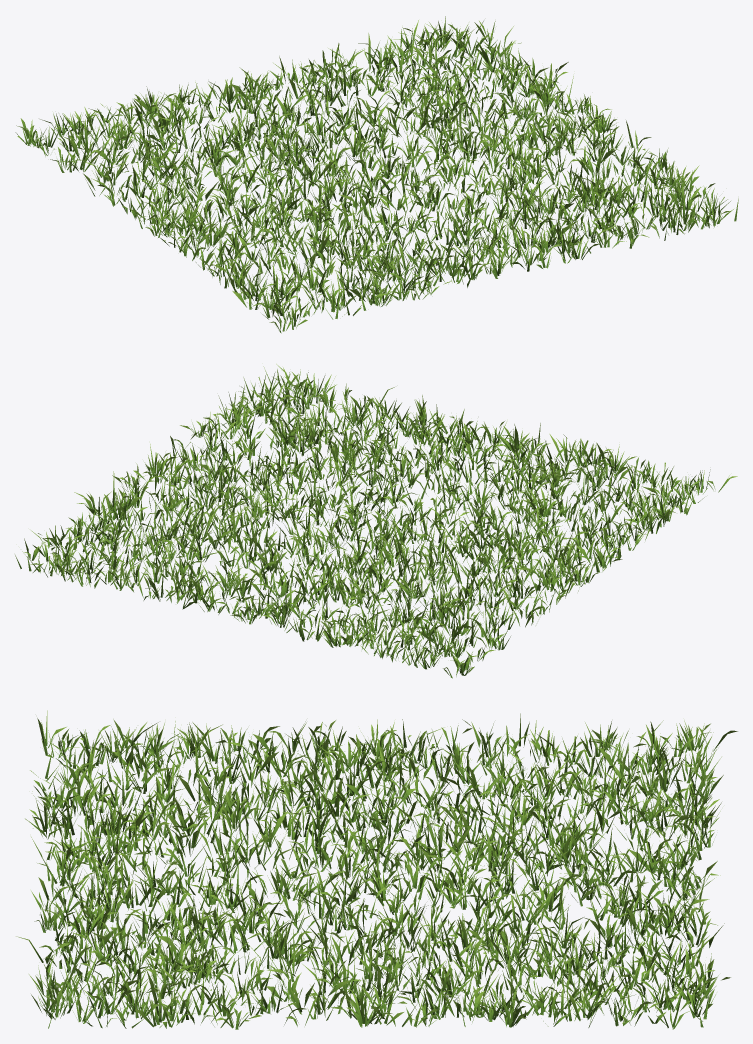
Rendered from cao3.obj.
The picture shows the model from 3 angles, top to bottom: view 1: azimuth 30°, elevation 25°; view 2: azimuth 150°, elevation 25°; view 3: azimuth 270°, elevation 25°; orthographic projection. The views are drawn at different scales.
Parts seen in each view (by area): view 1: grass_01; view 2: grass_01; view 3: grass_01.
Boxes of the visible parts, x1,y1,x2,y2 form: grass_01: [15, 16, 738, 333]; grass_01: [15, 364, 737, 678]; grass_01: [16, 710, 737, 1029].
Size of the model in its own units: 2.16 by 0.1436 by 2.18.
Materials: 1 (1 with a texture image).
